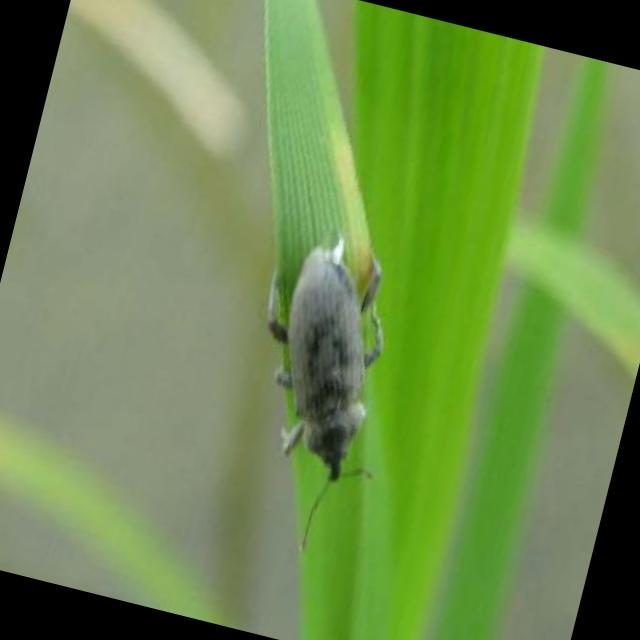rice-bug: (216, 226, 433, 509)
